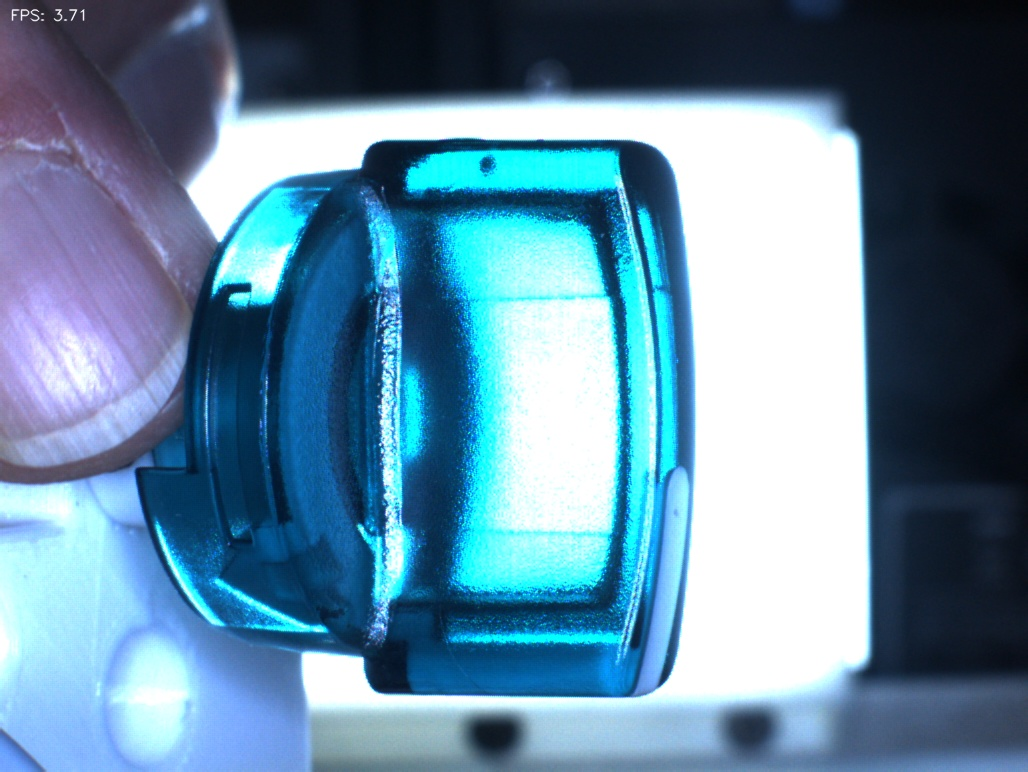Bulle: (449, 118, 532, 208)
